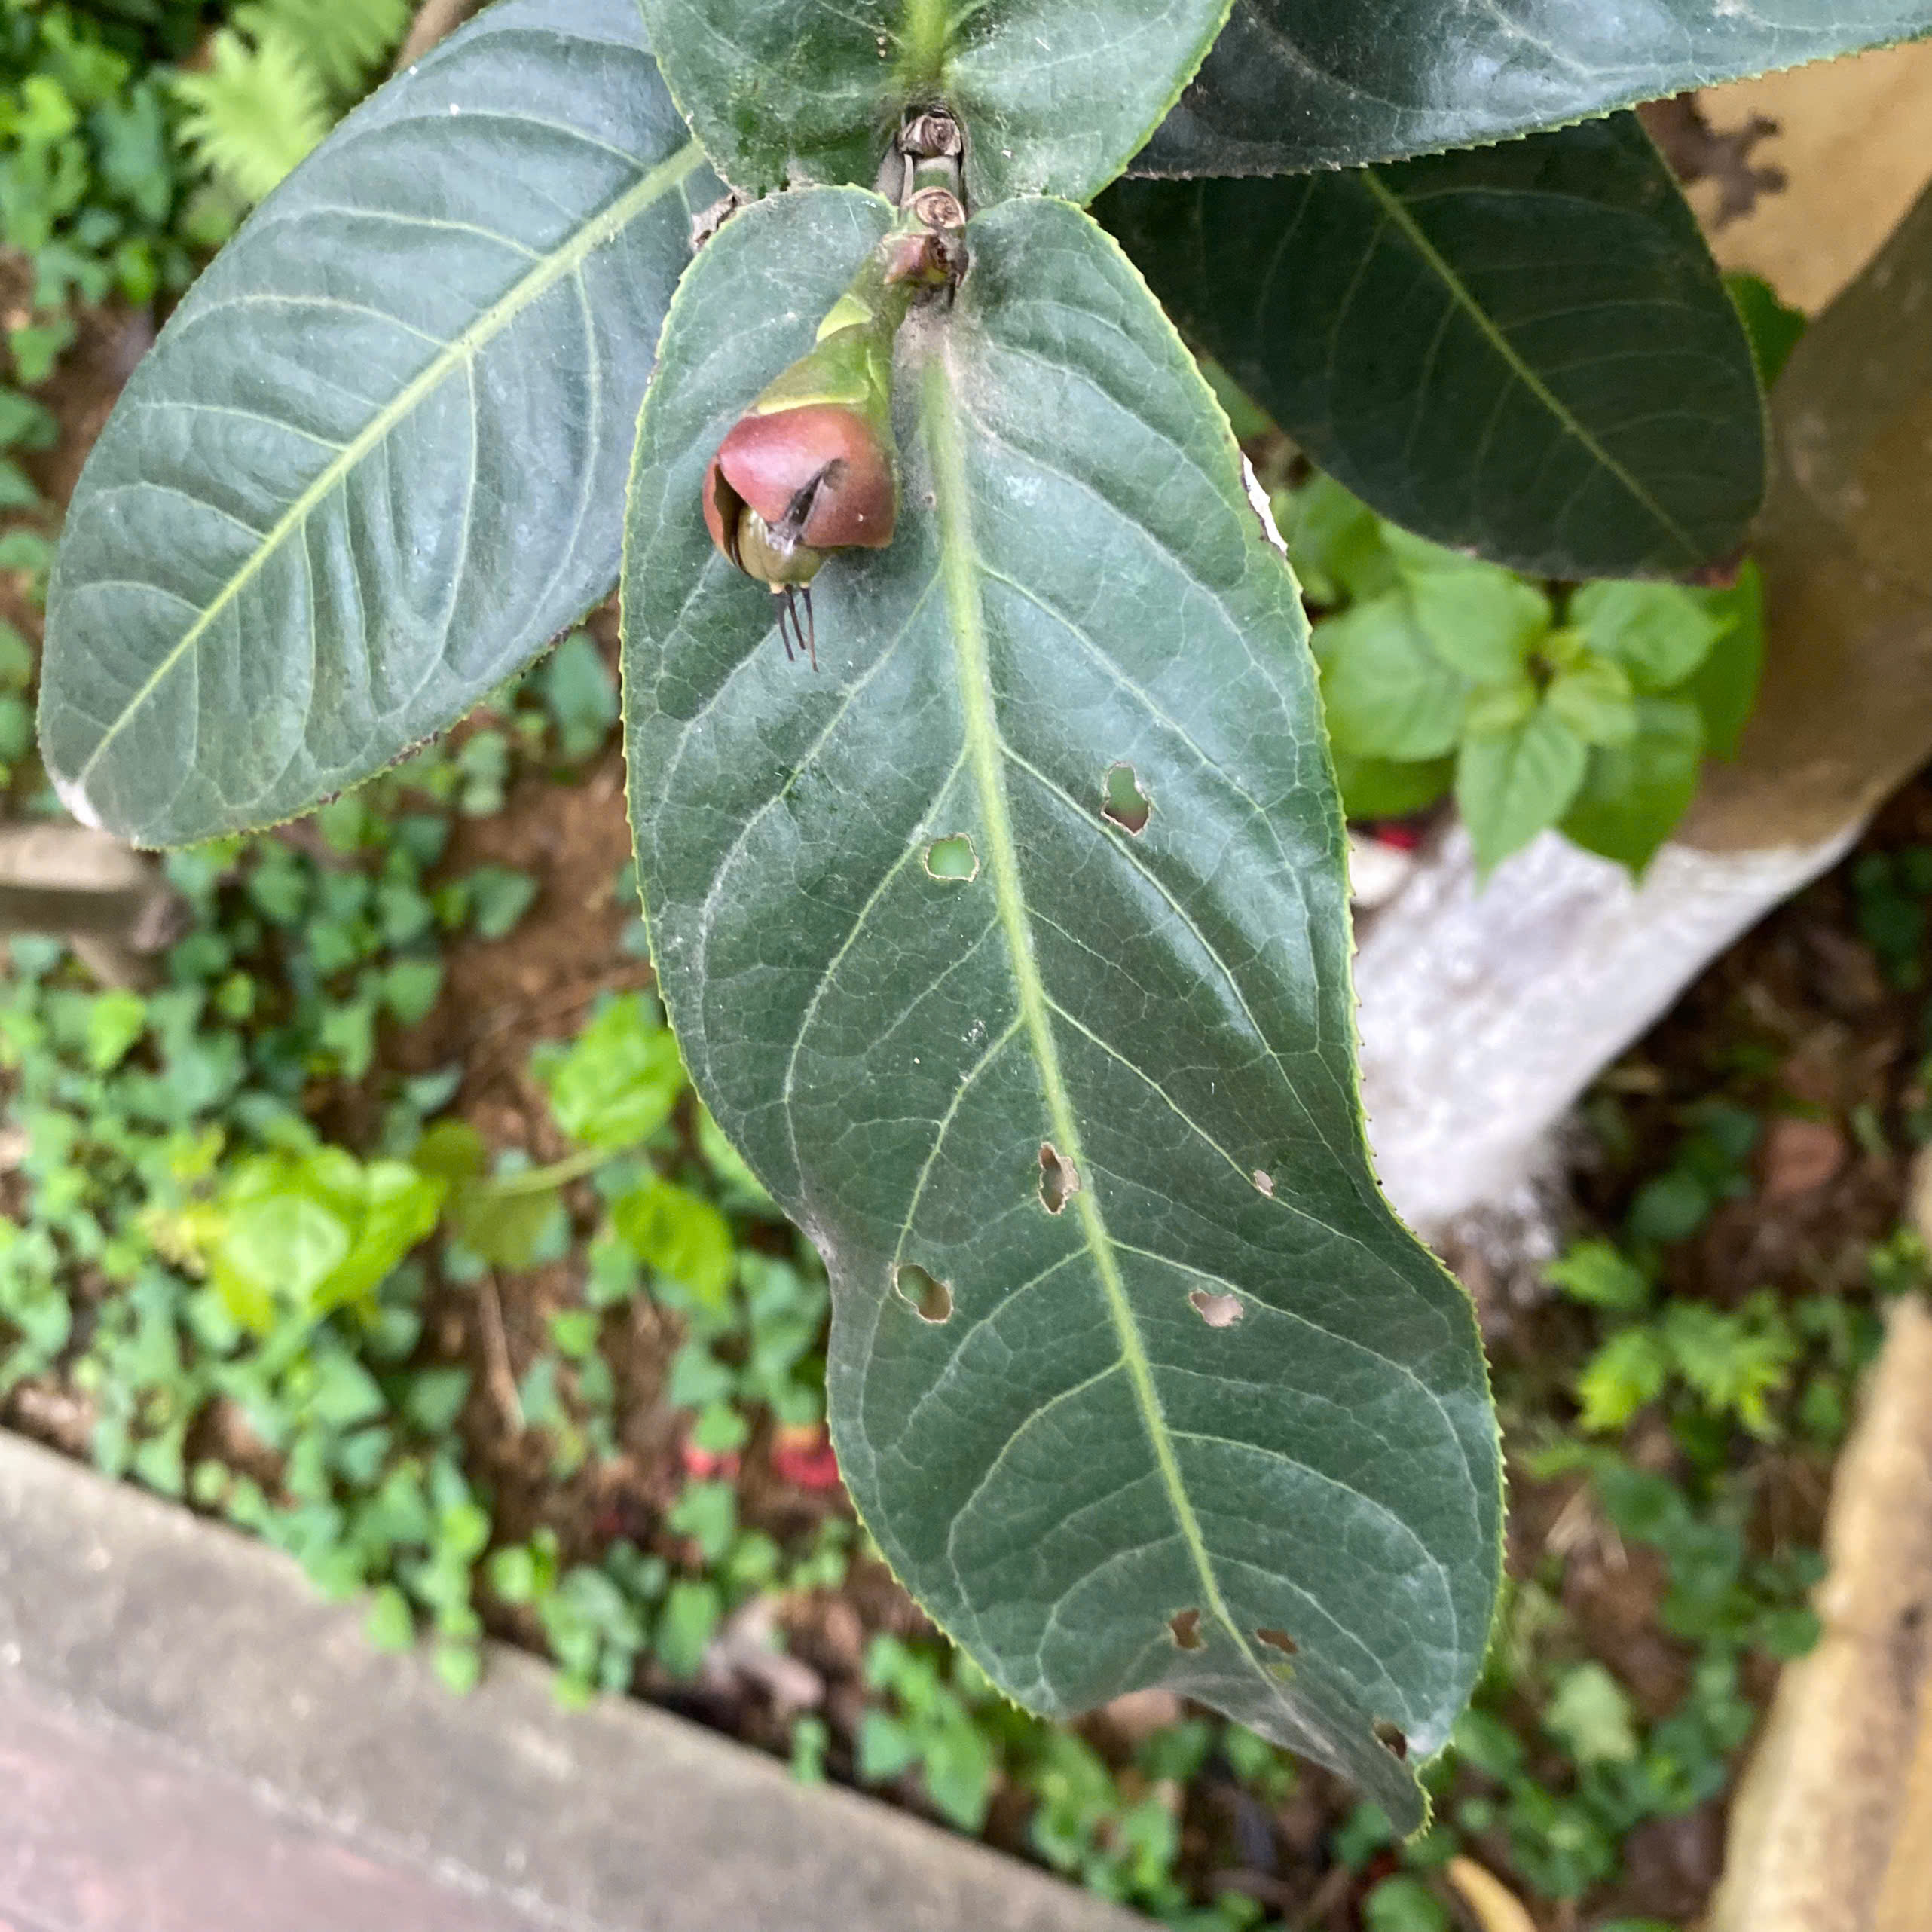hoa_hai_duong: (594, 170, 1622, 1858)
